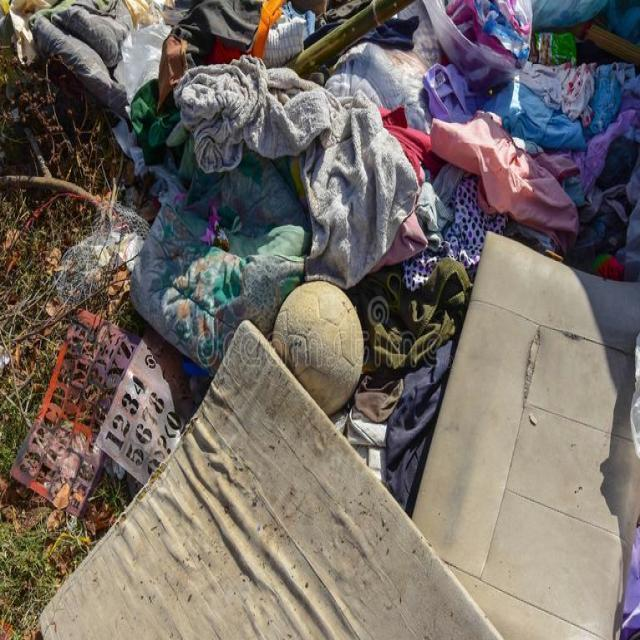clothes: (150, 40, 638, 239)
